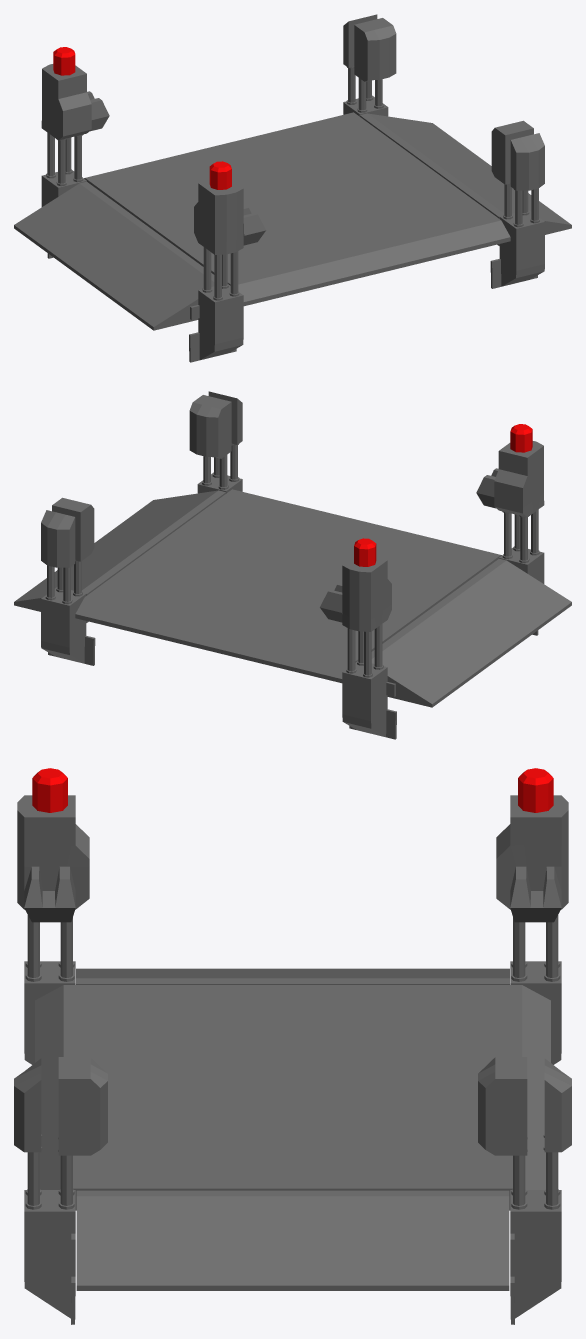
File: ramp_static.glb
3 views of the same model, one above another, from view 1: azimuth 30°, elevation 25°; view 2: azimuth 150°, elevation 25°; view 3: azimuth 270°, elevation 25° (orthographic). The views are drawn at different scales.
Parts seen in each view (by area): view 1: Cube.001, Cube.004, Cube.002, Cube.009, Cube.011, Cube.007, Cube.005, Cube.010, Cube.006, Cube.013, Cylinder.011, Cylinder.004 (+1 smaller); view 2: Cube.001, Cube.004, Cube.002, Cube.011, Cube.009, Cube.013, Cube.010, Cube.005, Cube.012, Cube.007, Cylinder.004, Cylinder.011 (+1 smaller); view 3: Cube.001, Cube.002, Cube.009, Cube.011, Cube.004, Cube.005, Cube.010, Cube.006, Cube.012, Cube.013, Cube.007, Cylinder.004 (+9 smaller).
Part boxes in pixels (x1=…): Cube.001: x1=84, y1=112, x2=510, y2=306; Cube.004: x1=14, y1=181, x2=214, y2=330; Cube.002: x1=360, y1=113, x2=571, y2=245; Cube.009: x1=194, y1=180, x2=265, y2=254; Cube.011: x1=41, y1=64, x2=109, y2=140; Cube.007: x1=189, y1=285, x2=243, y2=362; Cube.005: x1=491, y1=120, x2=544, y2=190; Cube.010: x1=343, y1=14, x2=396, y2=81; Cube.006: x1=490, y1=210, x2=544, y2=288; Cube.013: x1=41, y1=170, x2=86, y2=258; Cylinder.011: x1=53, y1=47, x2=75, y2=75; Cylinder.004: x1=209, y1=161, x2=231, y2=189; Cube.001: x1=75, y1=489, x2=501, y2=683; Cube.004: x1=371, y1=558, x2=571, y2=707; Cube.002: x1=14, y1=490, x2=225, y2=622; Cube.011: x1=320, y1=557, x2=391, y2=631; Cube.009: x1=476, y1=441, x2=544, y2=517; Cube.013: x1=342, y1=662, x2=396, y2=739; Cube.010: x1=41, y1=497, x2=94, y2=567; Cube.005: x1=189, y1=391, x2=242, y2=458; Cube.012: x1=41, y1=587, x2=95, y2=665; Cube.007: x1=499, y1=547, x2=544, y2=635; Cylinder.004: x1=510, y1=424, x2=532, y2=452; Cylinder.011: x1=354, y1=538, x2=376, y2=566; Cube.001: x1=35, y1=985, x2=550, y2=1210; Cube.002: x1=76, y1=1190, x2=509, y2=1290; Cube.009: x1=17, y1=795, x2=89, y2=922; Cube.011: x1=496, y1=795, x2=568, y2=922; Cube.004: x1=76, y1=968, x2=509, y2=984; Cube.005: x1=14, y1=1057, x2=107, y2=1155; Cube.010: x1=478, y1=1057, x2=571, y2=1155; Cube.006: x1=24, y1=1190, x2=75, y2=1324; Cube.012: x1=510, y1=1190, x2=561, y2=1324; Cube.013: x1=510, y1=961, x2=561, y2=1064; Cube.007: x1=24, y1=961, x2=75, y2=1064; Cylinder.004: x1=32, y1=768, x2=67, y2=812.
Bounding box in the file's own units: 4.75 × 2.14 × 3.53.
